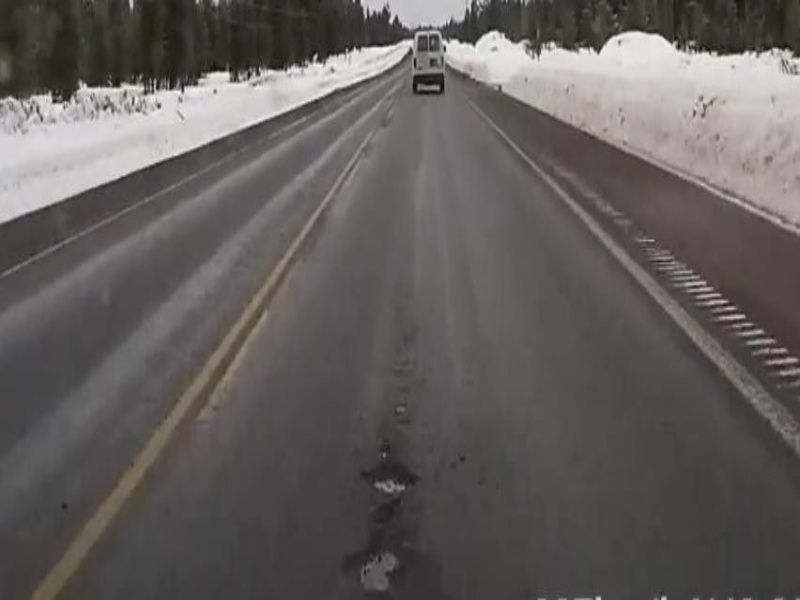pothole: (348, 545, 405, 593), (360, 460, 416, 497)
